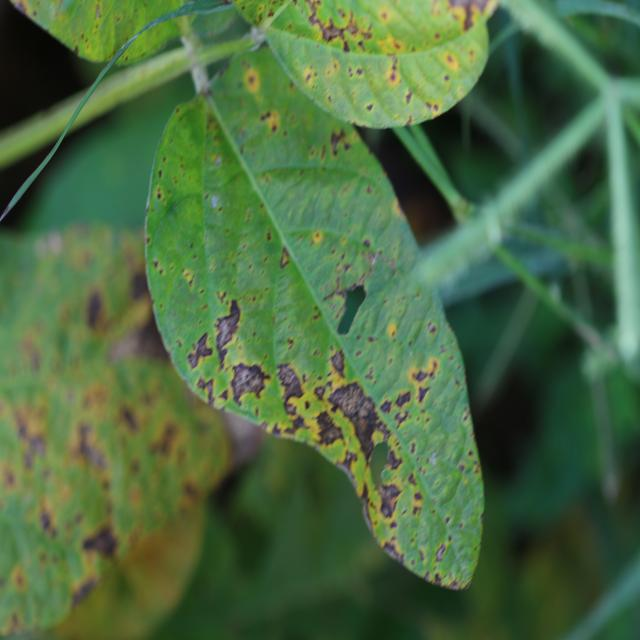Bacterial_Blight: (328, 379, 384, 461), (321, 242, 383, 309), (7, 396, 51, 468), (70, 4, 122, 58), (215, 290, 245, 362), (72, 418, 108, 473), (229, 1, 289, 30), (81, 522, 118, 558), (315, 12, 353, 45), (79, 381, 111, 418), (432, 466, 463, 504), (276, 363, 304, 403), (150, 421, 179, 458), (187, 331, 213, 370), (17, 336, 43, 373), (71, 574, 100, 606), (377, 30, 408, 55), (85, 290, 104, 330), (34, 231, 63, 257), (440, 562, 467, 589), (130, 269, 151, 303), (382, 537, 406, 565), (361, 493, 377, 535), (329, 127, 351, 157), (460, 3, 482, 32), (195, 375, 216, 405), (118, 404, 139, 432), (259, 108, 281, 134), (411, 363, 434, 385), (38, 507, 55, 535), (329, 348, 345, 377), (384, 56, 400, 85), (163, 199, 184, 221), (244, 67, 260, 92), (442, 51, 459, 70), (12, 567, 26, 590), (325, 58, 340, 77), (279, 246, 291, 269), (182, 268, 194, 287), (435, 543, 446, 562), (216, 290, 227, 304), (312, 230, 323, 244), (428, 452, 438, 467), (427, 321, 437, 335), (304, 70, 314, 84), (433, 572, 443, 585), (94, 5, 102, 21), (210, 194, 219, 208), (404, 89, 412, 104), (145, 197, 151, 213), (213, 155, 222, 164), (363, 238, 371, 248), (380, 12, 388, 22), (156, 189, 162, 200), (157, 169, 163, 179), (49, 4, 55, 14), (366, 103, 373, 111), (152, 260, 158, 269), (188, 241, 194, 249)
Soybean: (142, 46, 485, 595)
